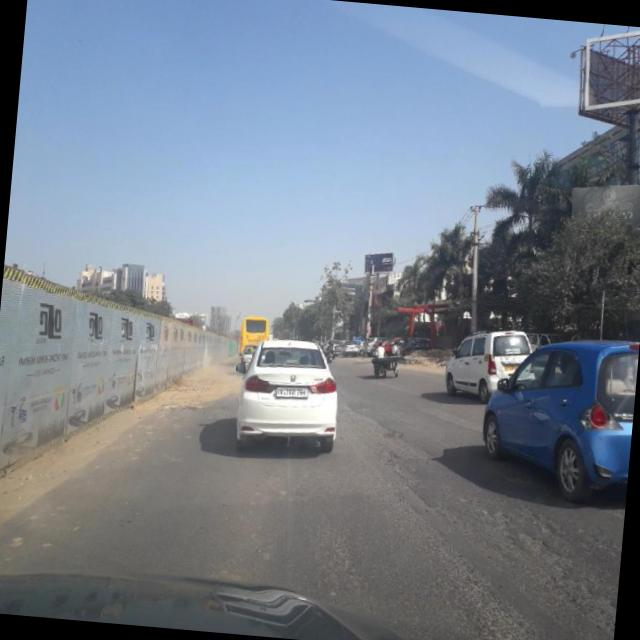crack: (449, 492, 622, 613), (298, 514, 382, 595)
